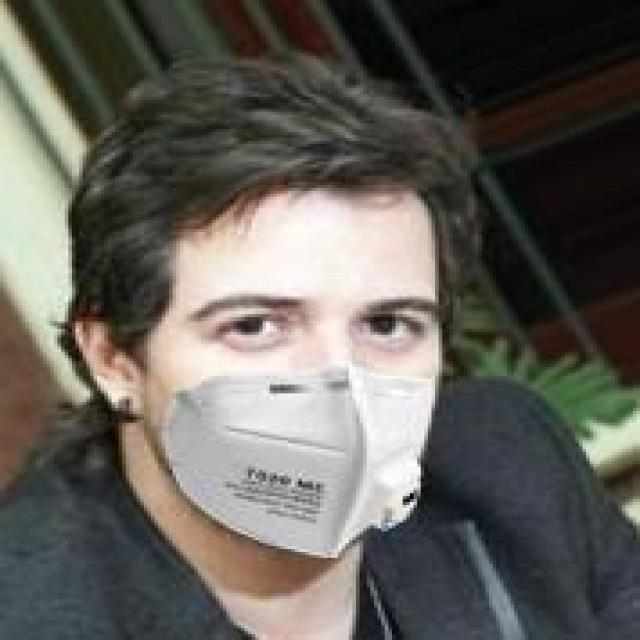mask: (61, 26, 496, 599)
